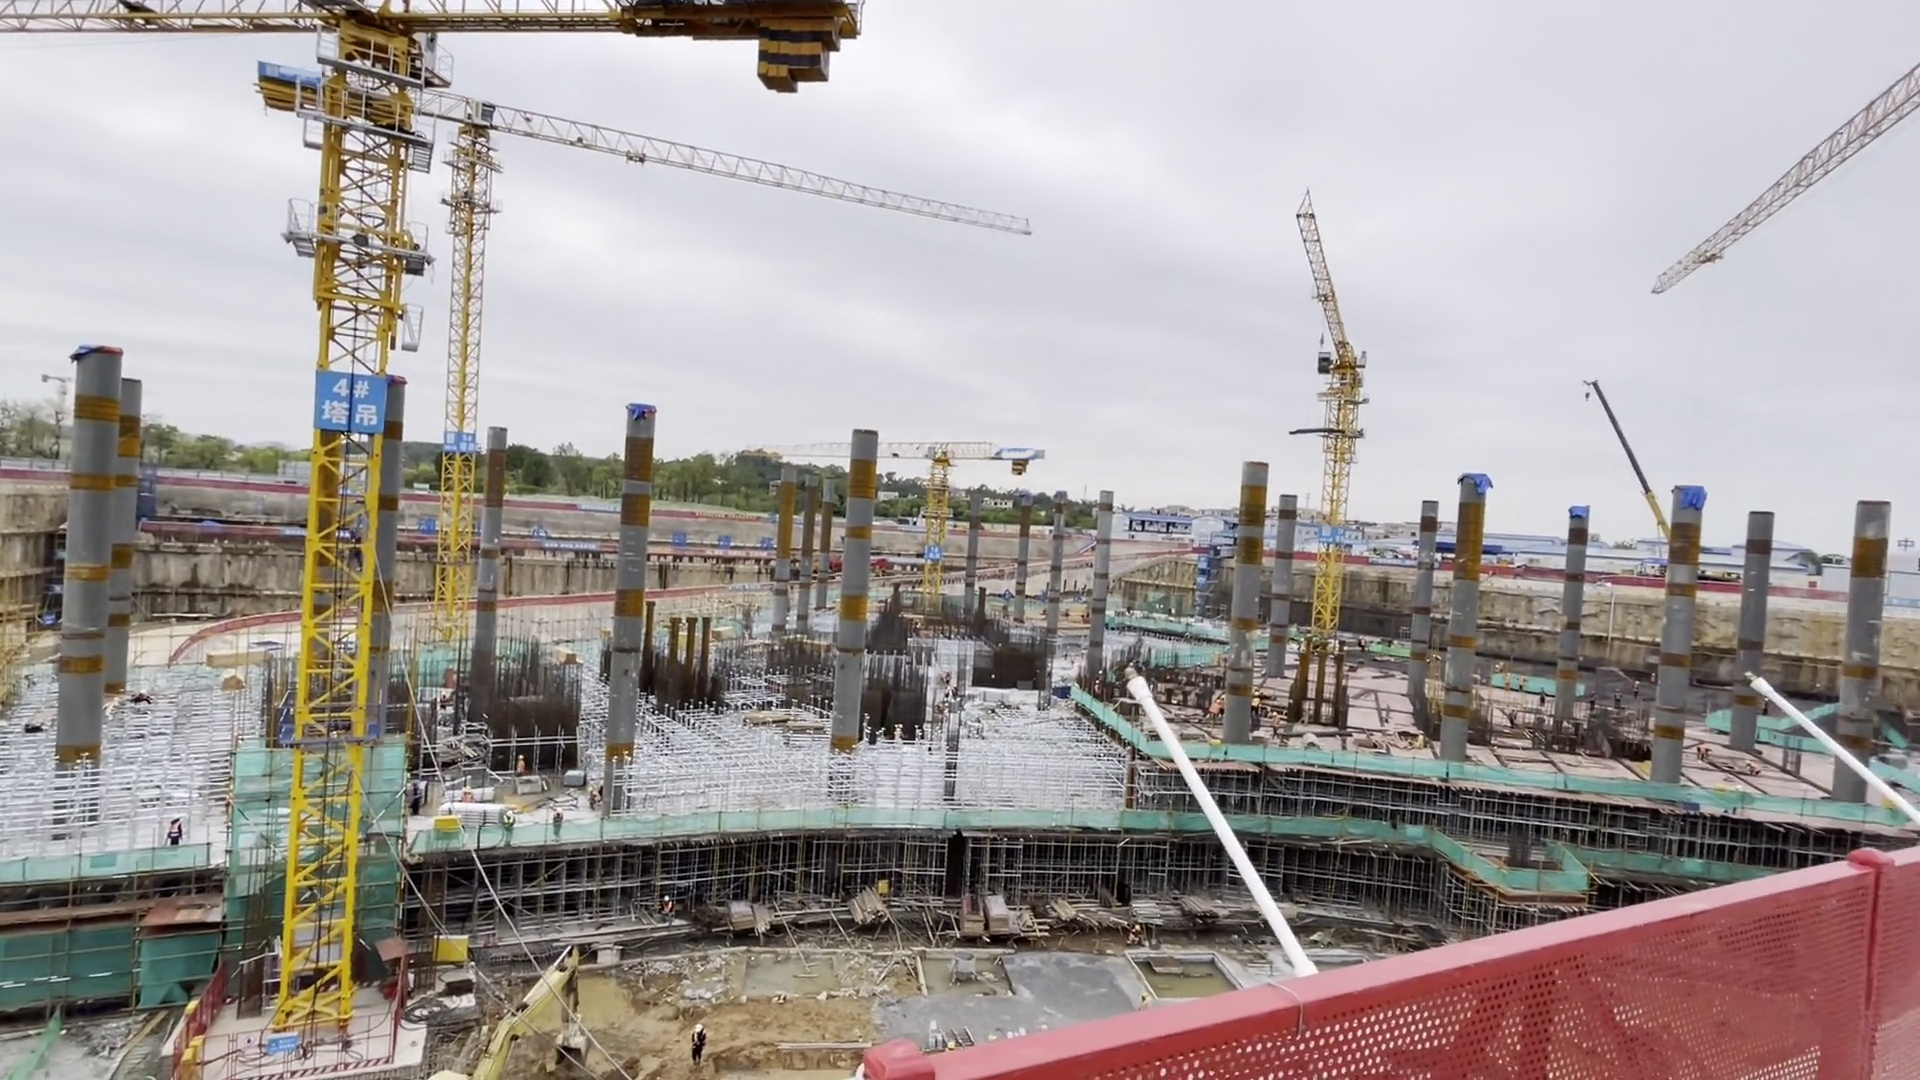person: (689, 1023, 709, 1074), (165, 814, 180, 849), (502, 809, 515, 846), (551, 808, 564, 843), (660, 896, 676, 921)
